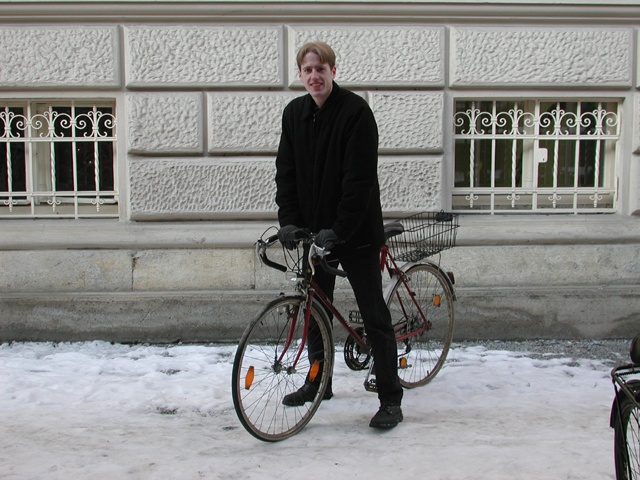person: (271, 40, 402, 428)
